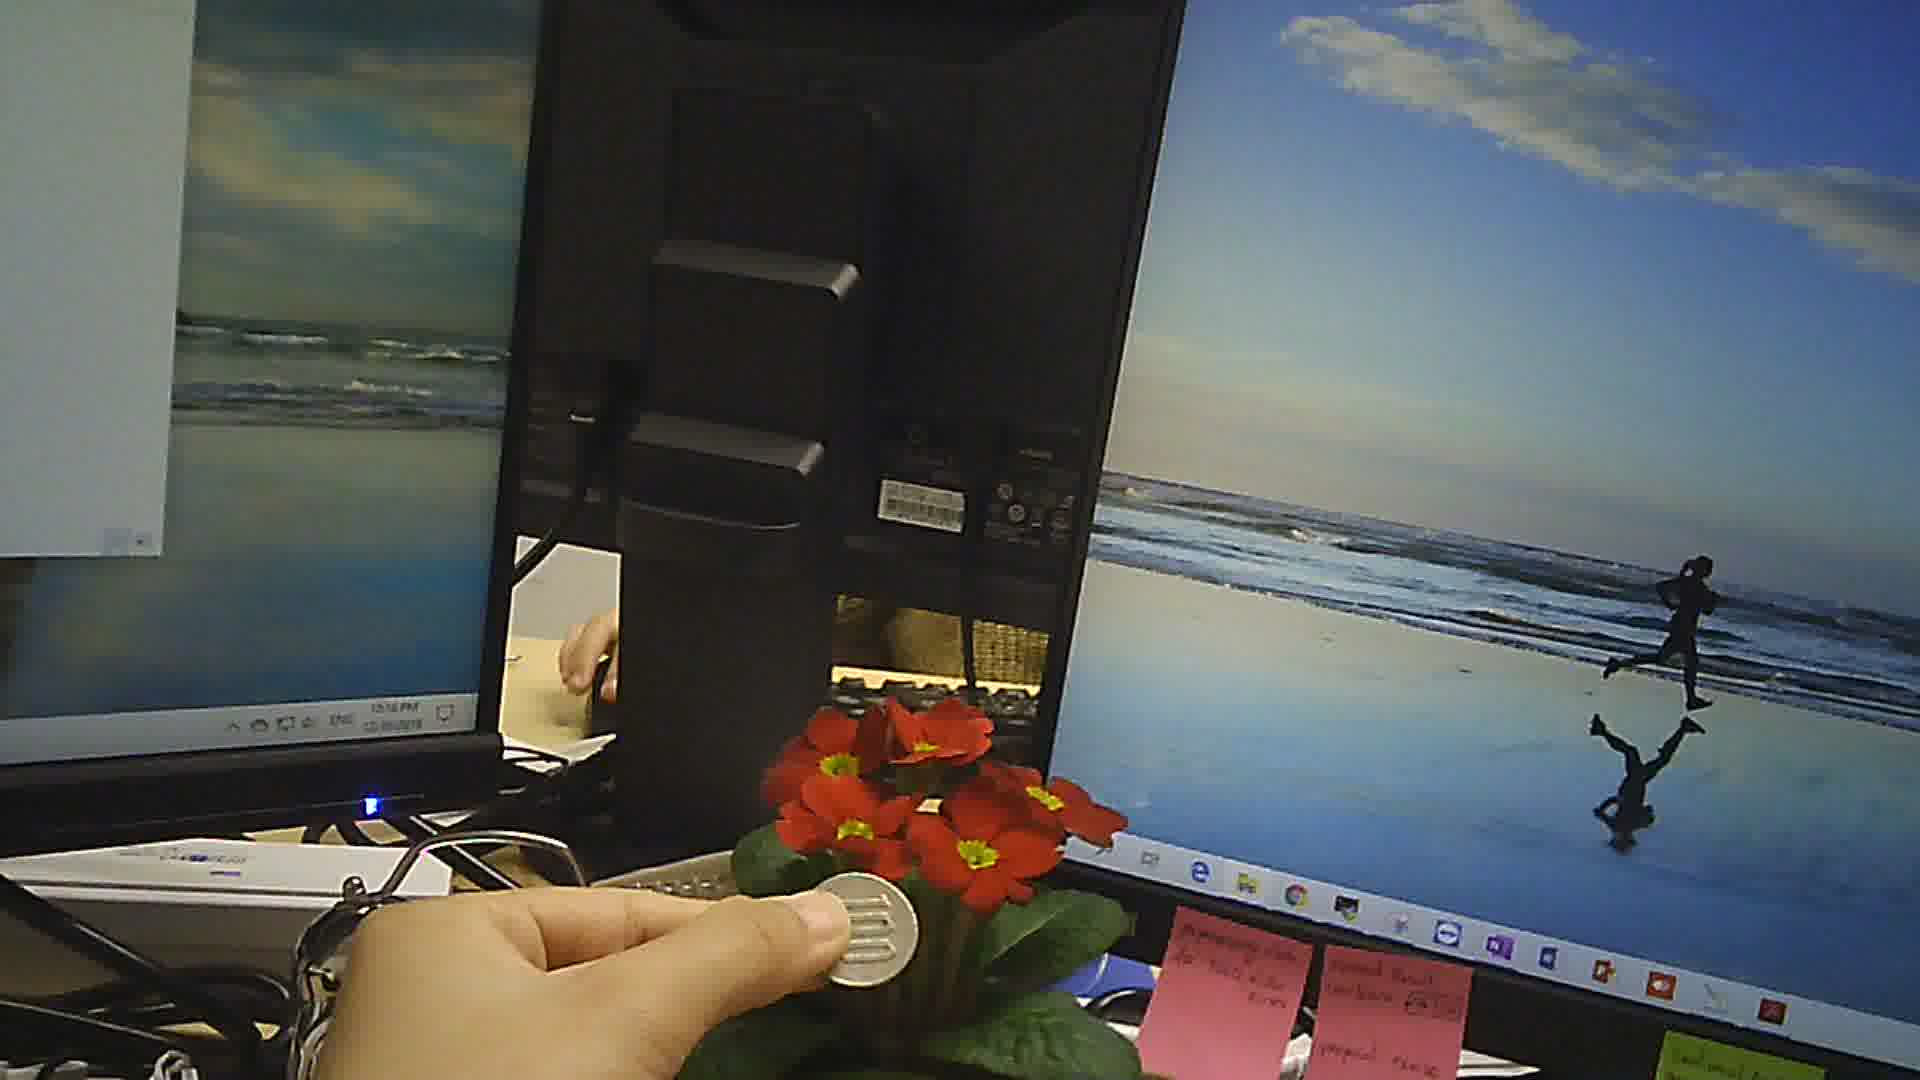100 Yen: (808, 866, 924, 986)
